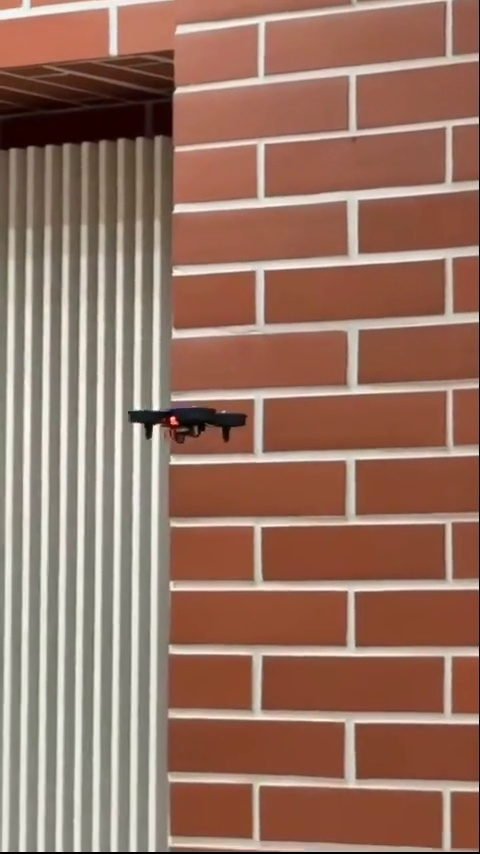drone: (124, 403, 251, 456)
